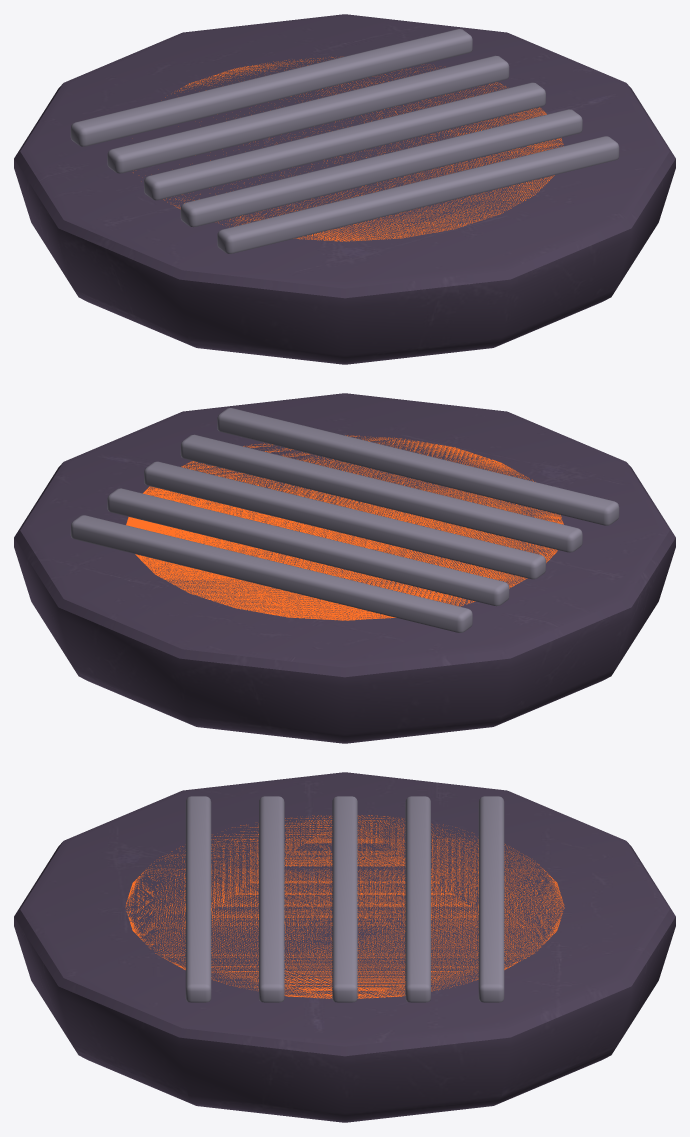
File: hz_fire_vent_idle.glb
3 views of the same model, one above another, from view 1: azimuth 30°, elevation 25°; view 2: azimuth 150°, elevation 25°; view 3: azimuth 270°, elevation 25° (orthographic).
Visible parts, largest first — view 1: hz_fire_vent_idle; view 2: hz_fire_vent_idle; view 3: hz_fire_vent_idle.
Part boxes in pixels (bbox=[...]): hz_fire_vent_idle: bbox=[14, 14, 675, 364]; hz_fire_vent_idle: bbox=[14, 393, 675, 743]; hz_fire_vent_idle: bbox=[14, 772, 675, 1122].
Bounding box in the file's own units: 0.9035 × 0.165 × 0.9035.
3 materials, 1 textured.
